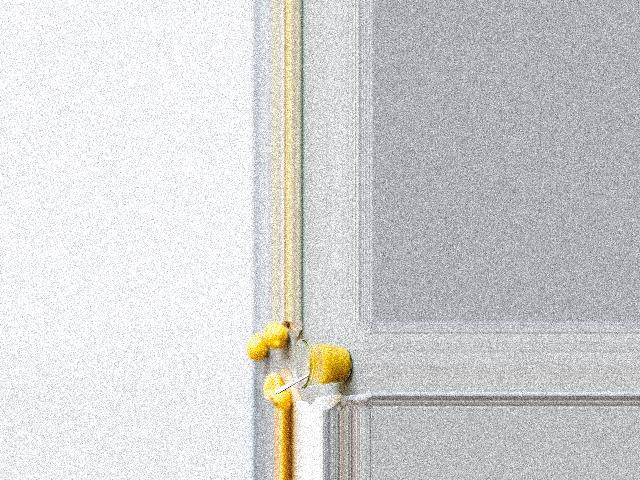lemon: (243, 329, 265, 360)
